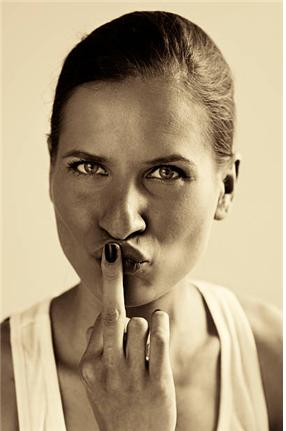insulting_gesture: (72, 239, 178, 431)
